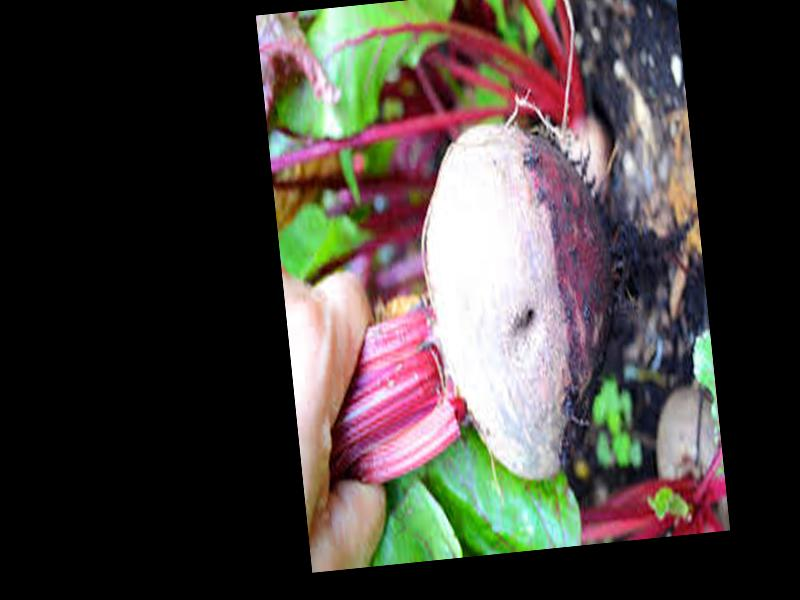Beet: (296, 100, 723, 499)
